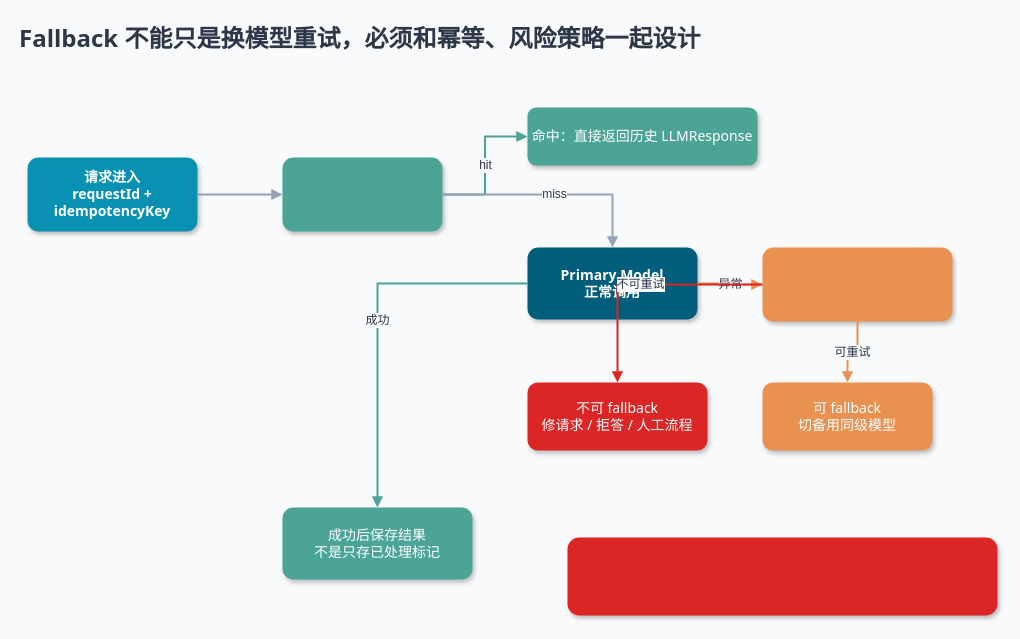
Some shapes in this 1020 by 639 pixel diagram are drawn without their labels. The shapes that lost their labels are listed below. From the top down, each one's centre as x and y in pixels, then its label:
At (x=363, y=195): "幂等结果缓存 tenant + key".
At (x=858, y=285): "错误分类 网络 / 5xx / 429 / 参数 / 安全拒答".
At (x=783, y=577): "否则：主模型已生成但网关超时，fallback 再生成一次，报告落库两份、成本扣两遍。".
